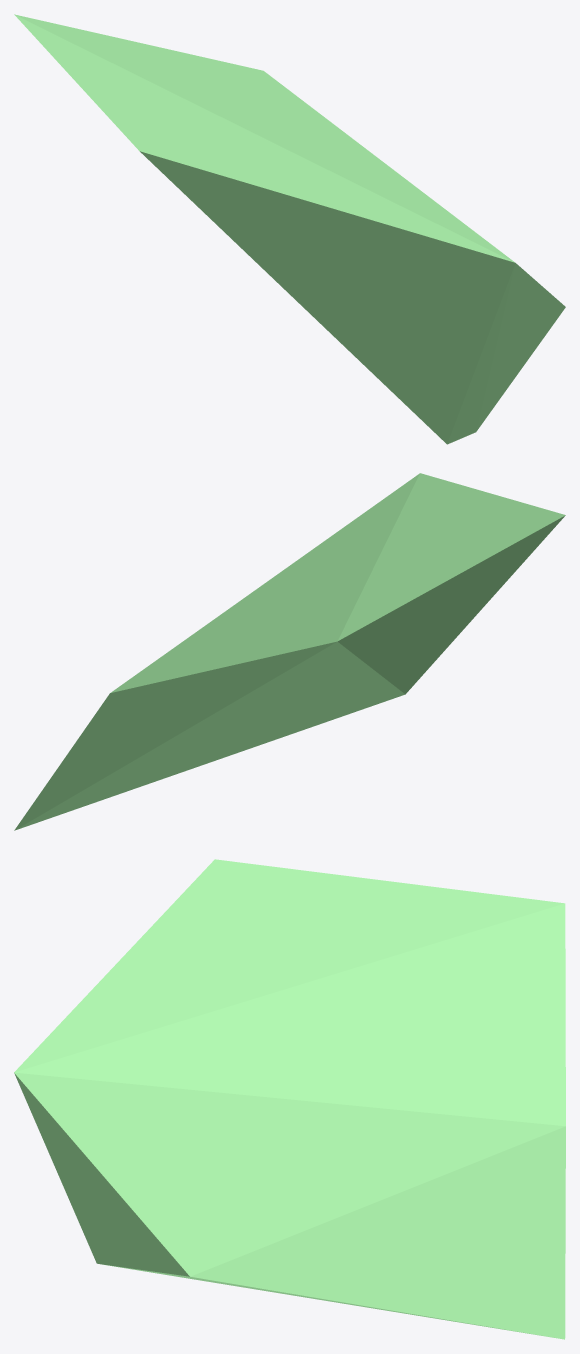
File: linkhou_LR4_R560_link6_respondable_coll_24.dae
The picture shows the model from 3 angles, top to bottom: view 1: azimuth 30°, elevation 25°; view 2: azimuth 150°, elevation 25°; view 3: azimuth 270°, elevation 25°; orthographic projection. The views are drawn at different scales.
Visible parts, largest first — view 1: Node_00000209DB3AD090; view 2: Node_00000209DB3AD090; view 3: Node_00000209DB3AD090.
Part boxes in pixels (x1,y1,x2,y2): Node_00000209DB3AD090: (14, 14, 565, 444); Node_00000209DB3AD090: (14, 473, 565, 830); Node_00000209DB3AD090: (14, 859, 565, 1339).
Bounding box in the file's own units: 0.0306 × 0.0218 × 0.0376.
